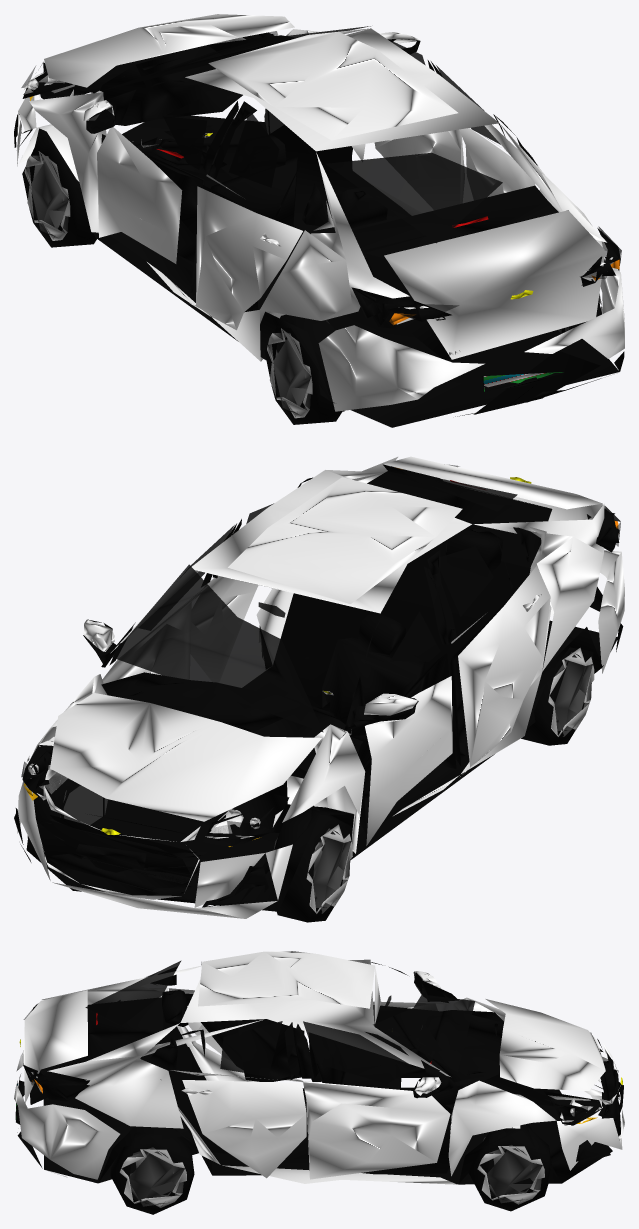
The picture shows the model from 3 angles, top to bottom: view 1: azimuth 30°, elevation 25°; view 2: azimuth 150°, elevation 25°; view 3: azimuth 270°, elevation 25°; orthographic projection. The views are drawn at different scales.
Parts seen in each view (by area): view 1: onix_90_2, group_4.001, onix_90_25, group_4, group_0, group_18.001, onix_90_3, group_17.001, group_3, onix_90_5, onix_90_15, wheel.002 (+18 smaller); view 2: onix_90_2, group_3, group_0, onix_90_25, onix_90_5, group_18.001, onix_90_3, group_17.001, onix_90_20, wheel.003, onix_90_2.001, onix_90_15 (+23 smaller); view 3: onix_90_2, group_17, group_18, onix_90_25, group_3, onix_90_22, group_0, onix_90_5, wheel.001, group_4, onix_90_3, wheel (+16 smaller).
Part boxes in pixels (x1,y1,x2,y2): onix_90_2: (147, 28, 607, 361); group_4.001: (384, 210, 605, 359); onix_90_25: (35, 48, 619, 427); group_4: (318, 259, 624, 411); group_0: (100, 26, 502, 243); group_18.001: (190, 186, 302, 330); onix_90_3: (100, 35, 293, 164); group_17.001: (97, 127, 182, 263); group_3: (44, 14, 294, 87); onix_90_5: (170, 124, 470, 360); onix_90_15: (352, 185, 568, 258); wheel.002: (264, 314, 344, 424); onix_90_2: (110, 457, 604, 815); group_3: (50, 693, 321, 821); group_0: (111, 470, 517, 732); onix_90_25: (26, 620, 617, 911); onix_90_5: (243, 544, 540, 835); group_18.001: (458, 566, 550, 776); onix_90_3: (101, 672, 347, 771); group_17.001: (365, 676, 452, 845); onix_90_20: (37, 586, 623, 895); wheel.003: (273, 805, 352, 922); onix_90_2.001: (17, 778, 292, 918); onix_90_15: (367, 464, 552, 568); onix_90_2: (42, 951, 456, 1184); group_17: (303, 1081, 450, 1179); group_18: (182, 1080, 306, 1178); onix_90_25: (43, 1071, 612, 1184); group_3: (485, 999, 605, 1090); onix_90_22: (23, 1021, 589, 1125); group_0: (85, 960, 475, 1072); onix_90_5: (30, 1012, 463, 1175); wheel.001: (110, 1132, 194, 1214); group_4: (14, 1052, 120, 1179); onix_90_3: (391, 1010, 503, 1086); wheel: (468, 1128, 551, 1211).
Size of what is drawn, in the model's own units: 2.17 by 1.56 by 4.71.
19 materials, 1 textured.
